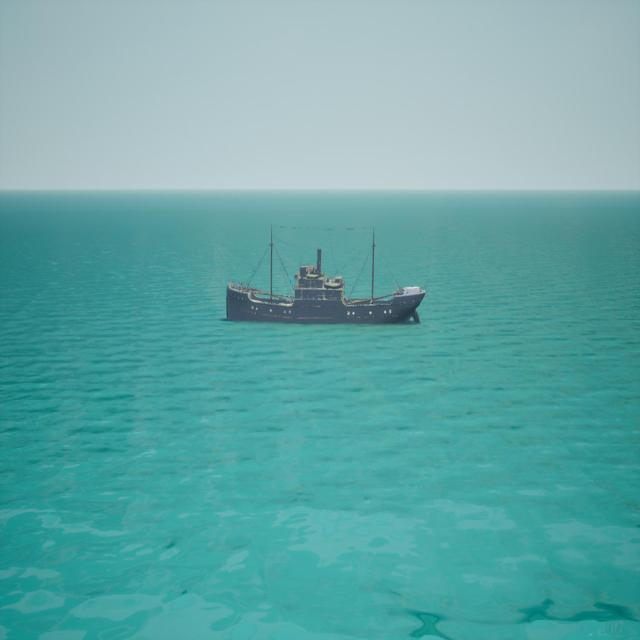fishing ship: (226, 227, 427, 325)
